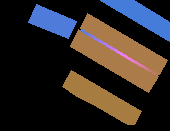parkingspot: (70, 29, 158, 92), (80, 13, 167, 74), (62, 70, 141, 124), (100, 0, 170, 41), (28, 4, 76, 38)
